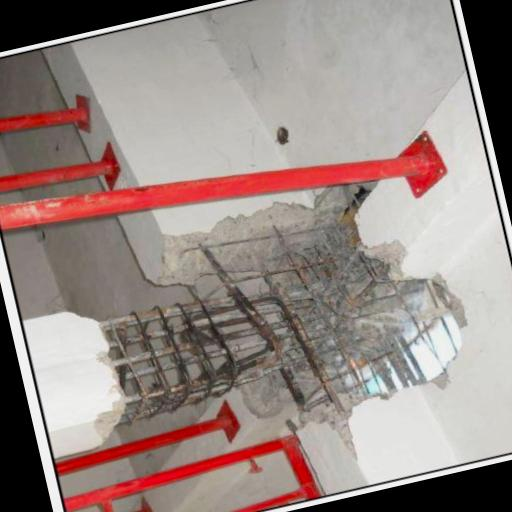spalling: (92, 232, 432, 440)
